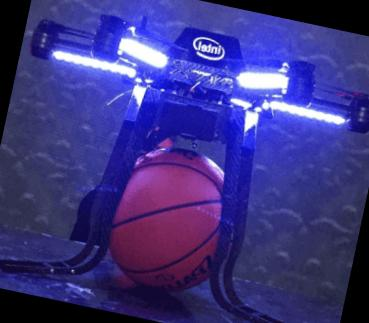drone: (6, 0, 369, 186)
